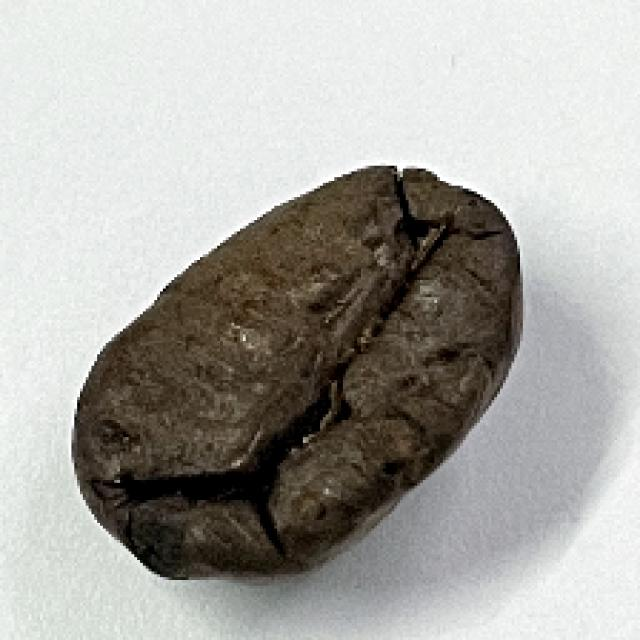bean: (72, 165, 520, 584)
